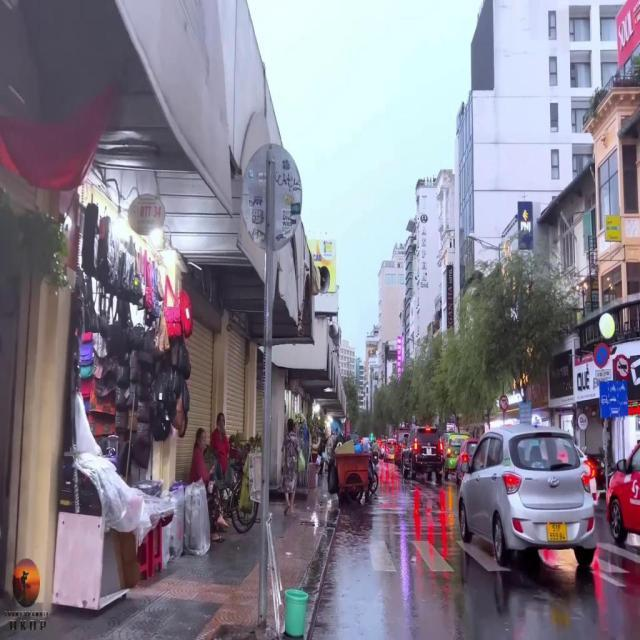106-cam-oto-tai: (613, 352, 630, 381)
123a-cam-re-trai: (499, 394, 509, 411)
131a-cam-do-xe: (593, 342, 610, 369)
